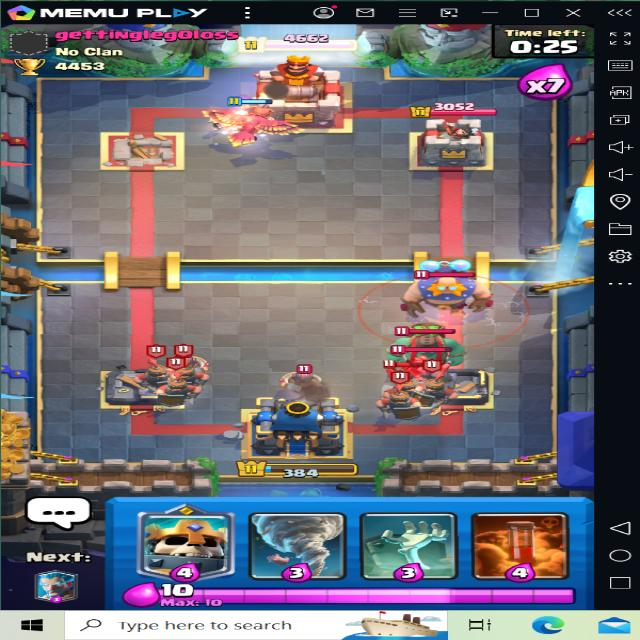electro-barbarians: (276, 354, 334, 391)
electro-giant: (400, 257, 494, 313)
goblin-giant: (394, 315, 464, 365)
royal-recruits: (413, 362, 463, 408), (380, 378, 430, 417), (133, 350, 180, 390), (155, 367, 199, 403), (162, 366, 214, 390)
